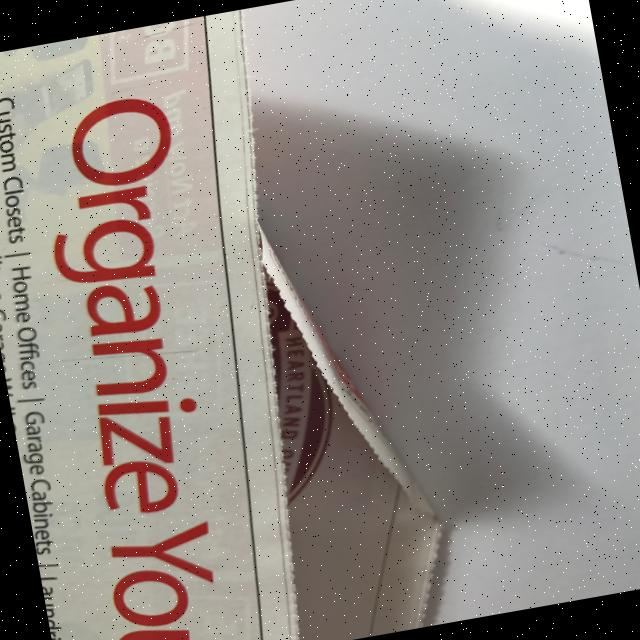paper: (218, 0, 640, 640), (0, 9, 351, 640)
